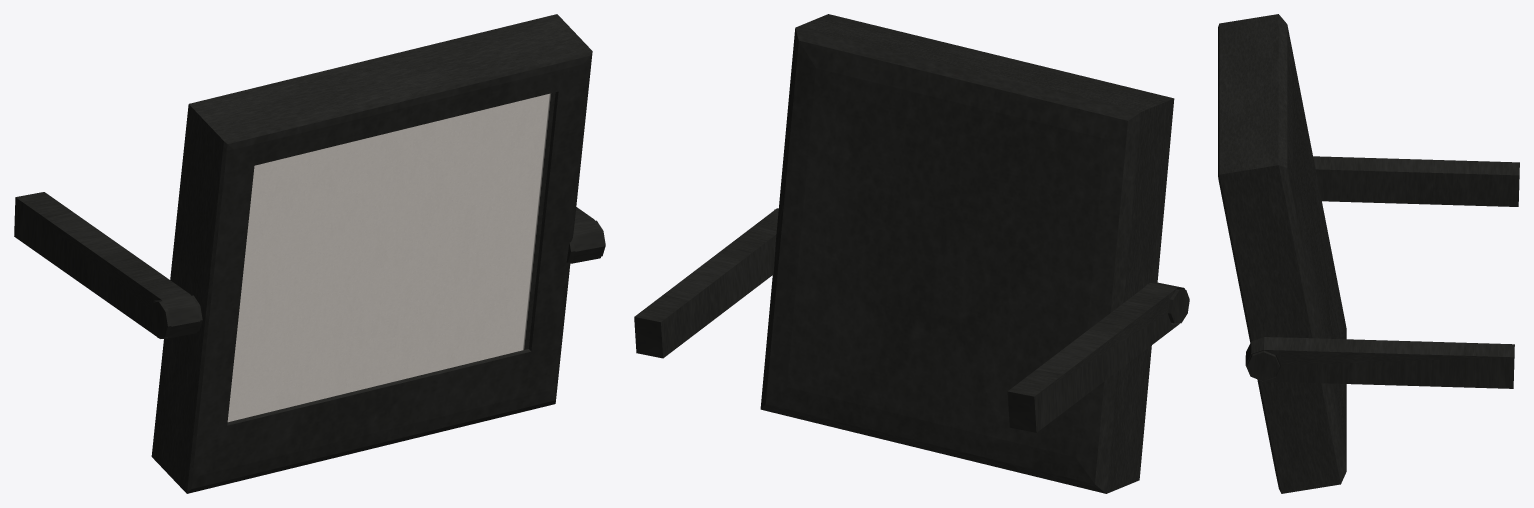
Rendered from light.fbx.
3 renders of one model, left to right at view 1: azimuth 30°, elevation 25°; view 2: azimuth 150°, elevation 25°; view 3: azimuth 270°, elevation 25°, orthographic. The views are drawn at different scales.
Visible parts, largest first — view 1: outside_light_asset, light_frame_asset; view 2: outside_light_asset, light_frame_asset; view 3: outside_light_asset, light_frame_asset.
Boxes of the visible parts, box(x1,y1,x2,y2) form: outside_light_asset: box(151, 14, 592, 493); light_frame_asset: box(14, 192, 605, 338); outside_light_asset: box(760, 14, 1174, 493); light_frame_asset: box(634, 208, 1189, 432); outside_light_asset: box(1218, 14, 1346, 493); light_frame_asset: box(1245, 156, 1519, 388).
Size of the model in its own units: 59.26 by 50.7 by 42.2.
